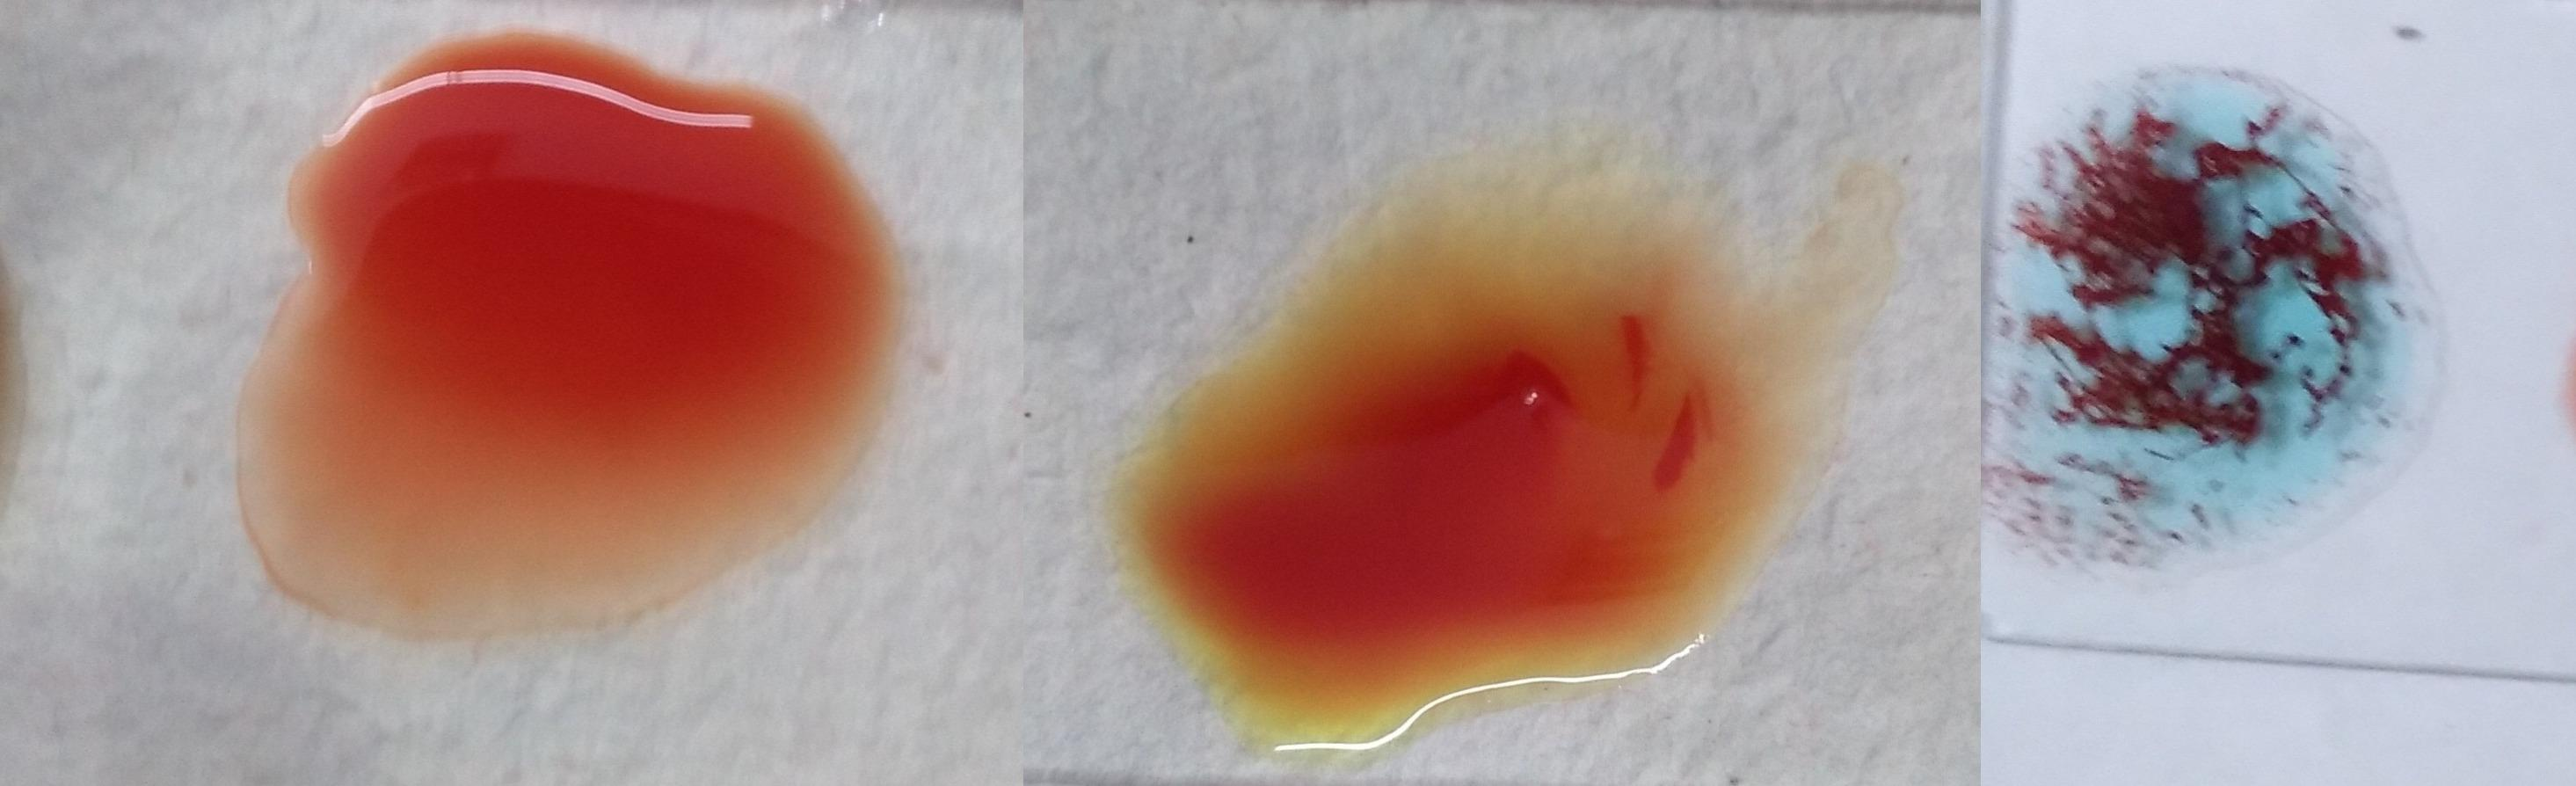A: (1999, 66, 2412, 580)
